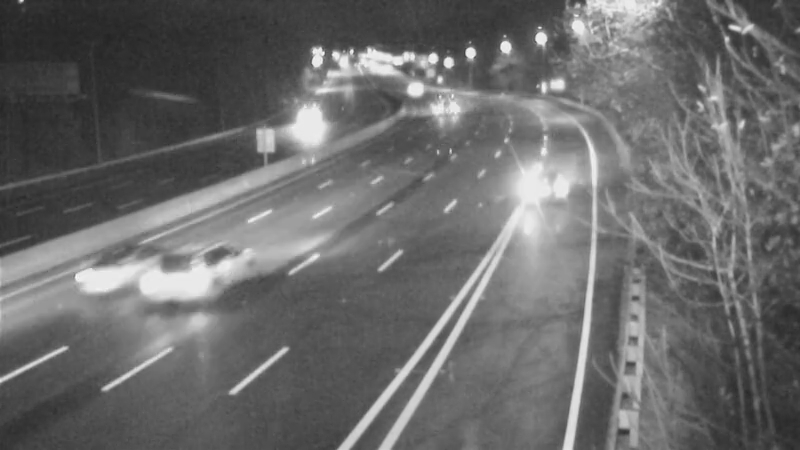vehicle: (498, 143, 578, 223), (142, 246, 222, 326), (64, 233, 144, 313), (386, 63, 436, 113), (416, 79, 466, 129), (275, 96, 325, 146)
